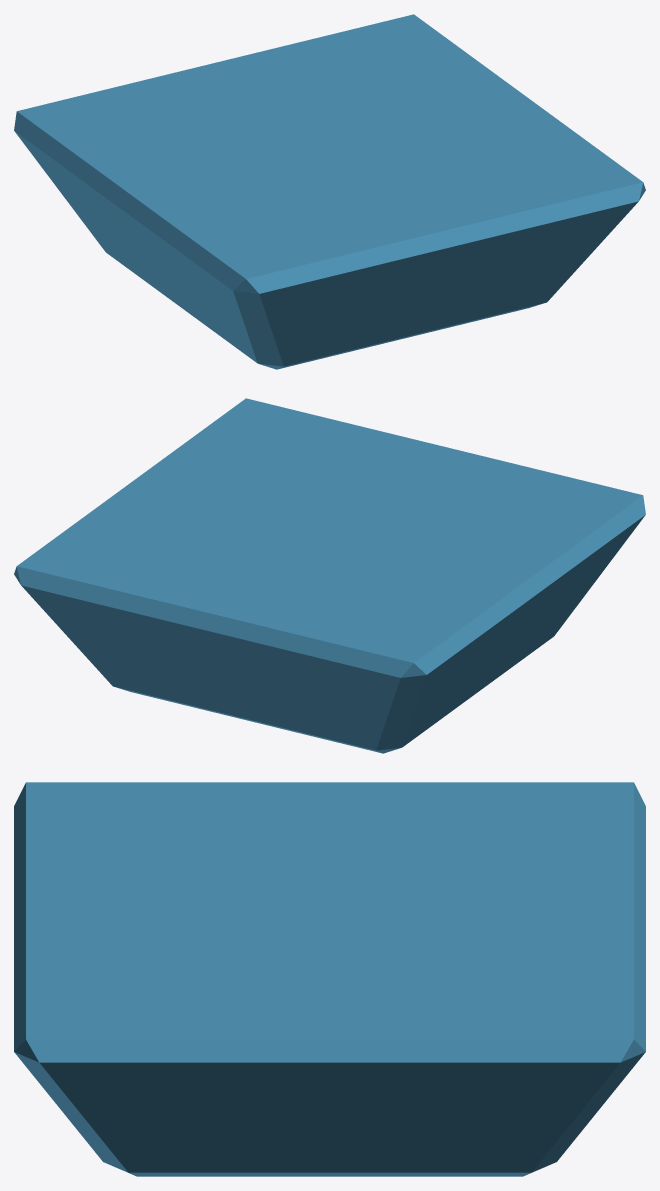
Rendered from RegPlatform.glb.
3 views of the same model, one above another, from view 1: azimuth 30°, elevation 25°; view 2: azimuth 150°, elevation 25°; view 3: azimuth 270°, elevation 25° (orthographic). The views are drawn at different scales.
Visible parts, largest first — view 1: Cube.001; view 2: Cube.001; view 3: Cube.001.
Boxes of the visible parts, left/top/right/bottom form: Cube.001: left=14, top=14, right=645, bottom=369; Cube.001: left=14, top=398, right=645, bottom=753; Cube.001: left=14, top=782, right=645, bottom=1176.
Bounding box in the file's own units: 19.34 × 6.22 × 19.34.
Materials: 1 (1 with a texture image).
